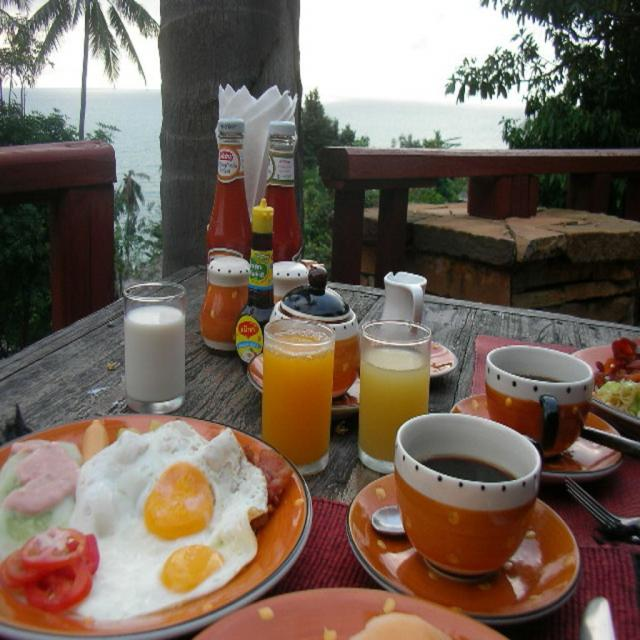Coffee: (417, 456, 514, 480), (518, 370, 567, 386)
Tea: (421, 454, 517, 486), (508, 366, 563, 382)
